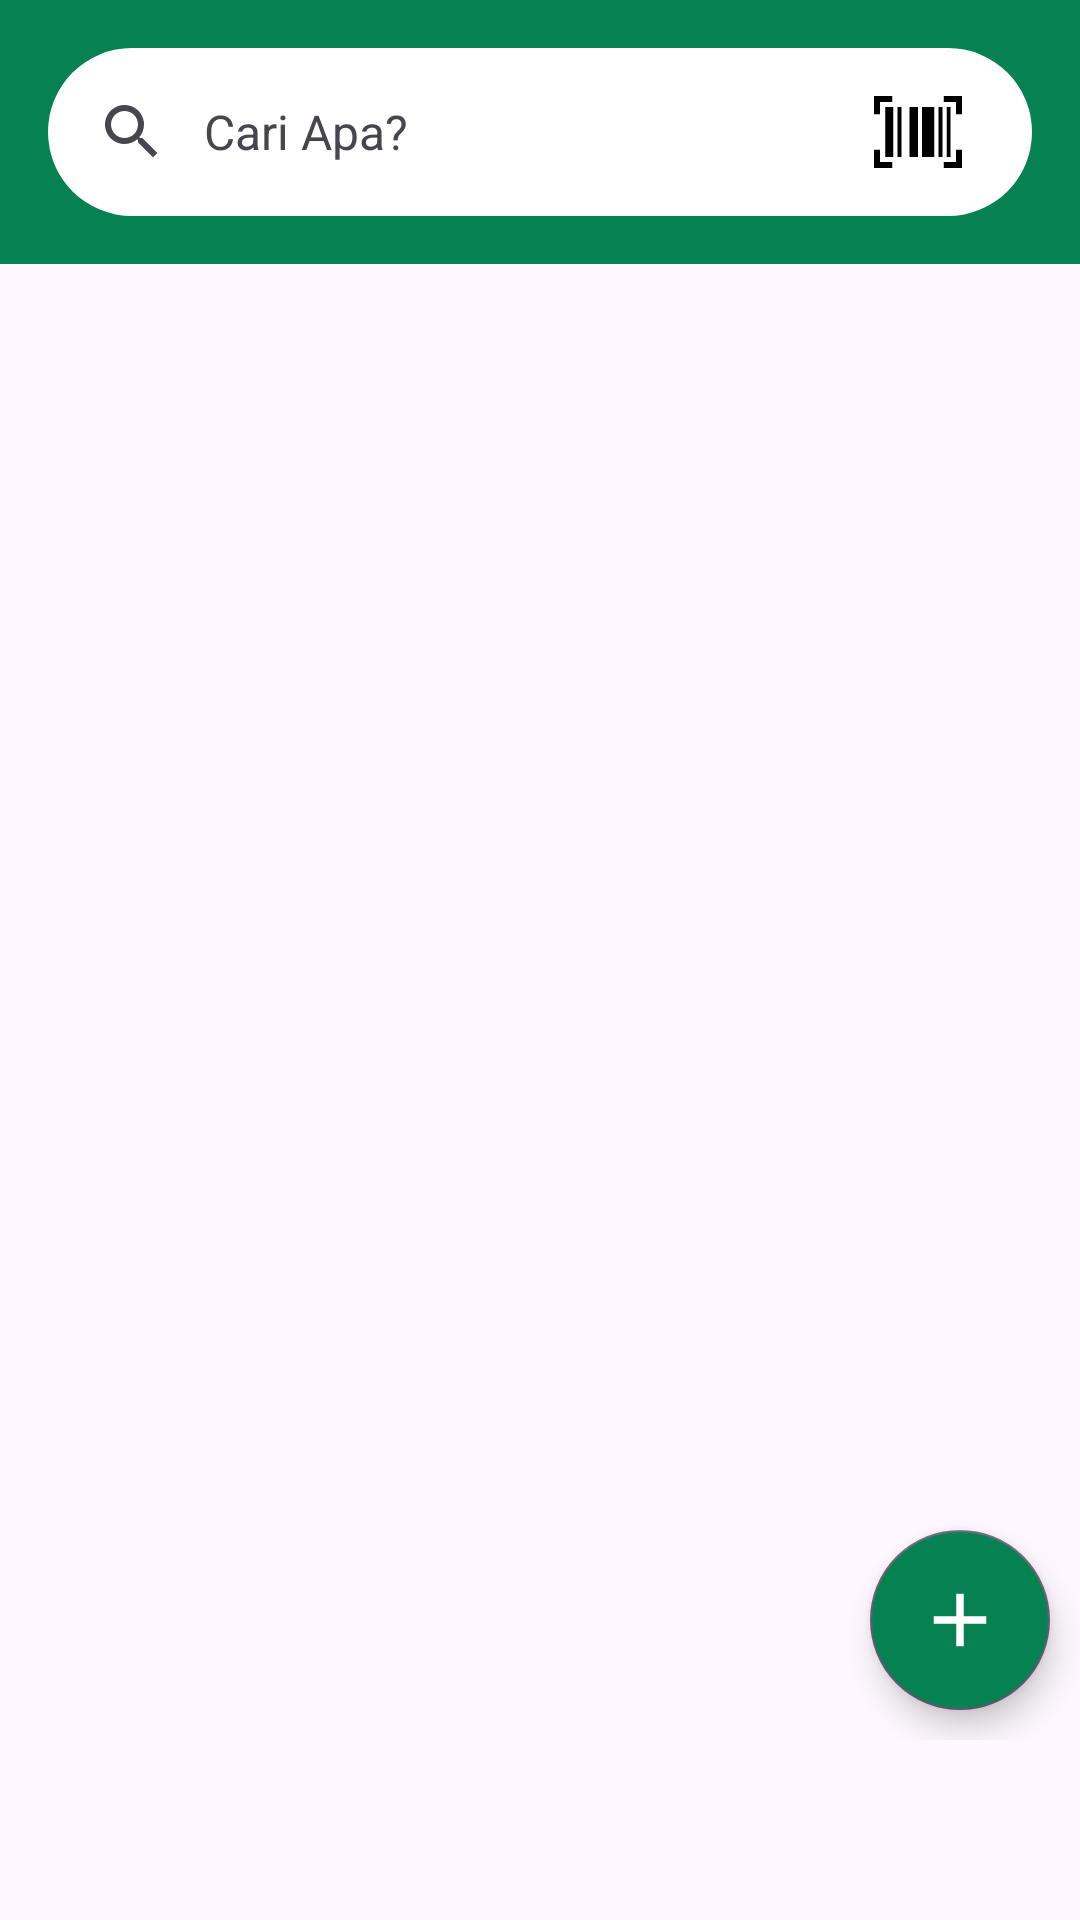

Where icons sit on this 1080×1920 app screen, as (x1, y1, x2, y2):
add: (870, 1530, 1050, 1710)
